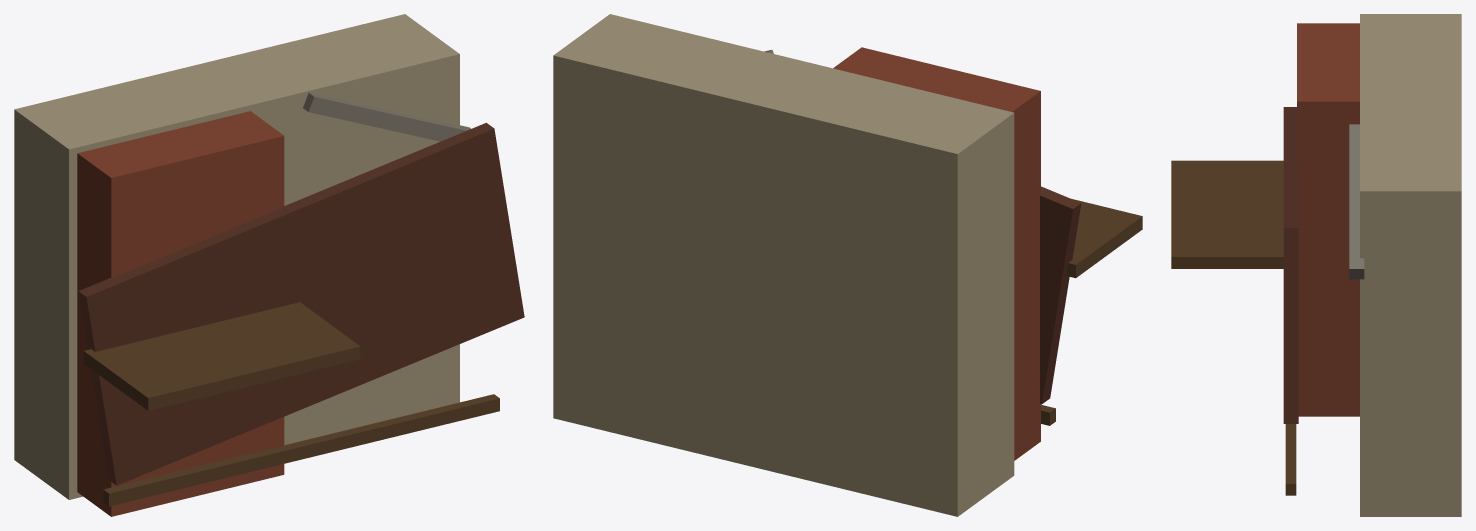
The model's file is buried_village_house.obj.
3 views of the same model, side by side, from view 1: azimuth 30°, elevation 25°; view 2: azimuth 150°, elevation 25°; view 3: azimuth 270°, elevation 25° (orthographic). The views are drawn at different scales.
Size of the model in its own units: 7.85 by 6 by 4.85.
